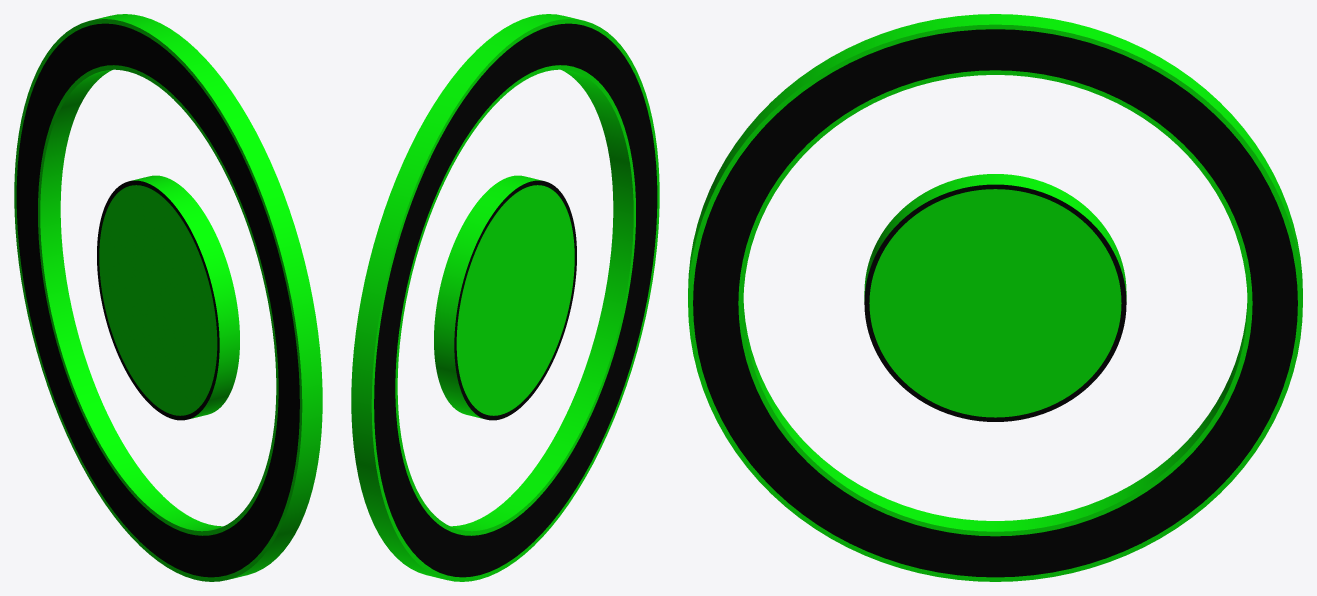
Rendered from track_collectable_basic.dae.
3 views of the same model, side by side, from view 1: azimuth 30°, elevation 25°; view 2: azimuth 150°, elevation 25°; view 3: azimuth 270°, elevation 25° (orthographic). The views are drawn at different scales.
Parts seen in each view (by area): view 1: Component_1 (×7); view 2: Component_1 (×7); view 3: Component_1 (×7).
Part boxes in pixels (box(x1,y1,x2,y2)): Component_1 (×7): box(14, 14, 322, 581); Component_1 (×7): box(351, 14, 659, 581); Component_1 (×7): box(688, 14, 1302, 581).
Bounding box in the file's own units: 39.37 × 961 × 961.
